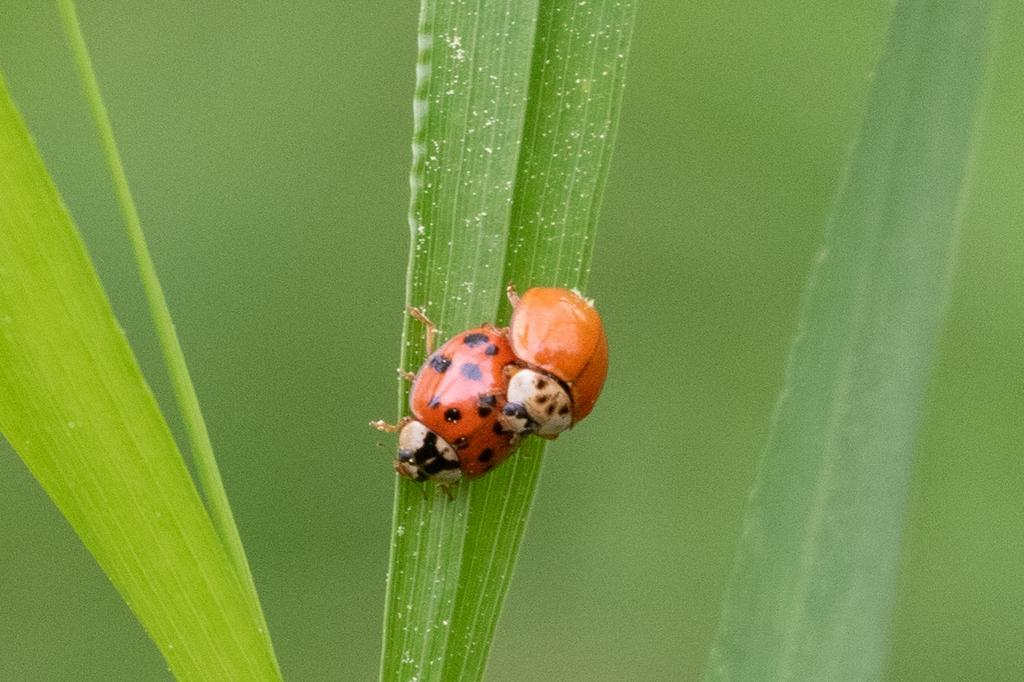ladybug: (371, 303, 537, 505), (477, 281, 615, 449)
